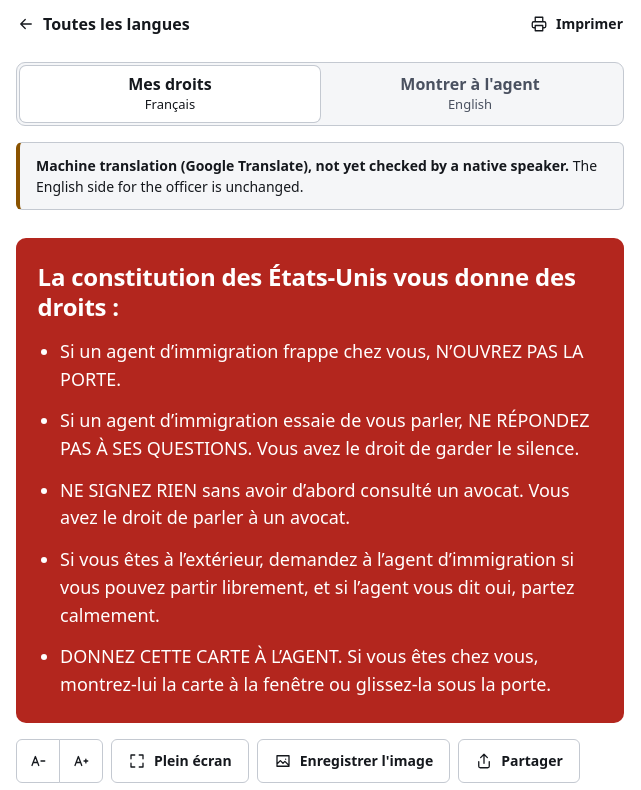
machine-translated card › drops the notice on the English side, which is not translated
The image size is (641, 790).
(page scrolled)
Click the button "Montrer à l'agent English" at coordinates (470, 94), box [320,66,620,122]
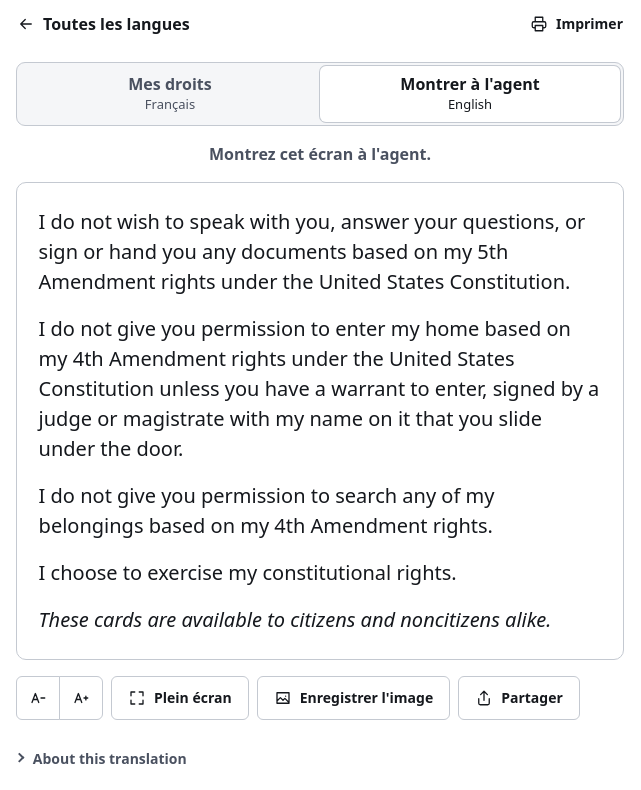
Check: the text "Machine translation (Google Translate), not yet checked by a native speaker." is gone
